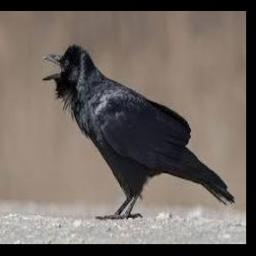Crow: (41, 44, 234, 220)
